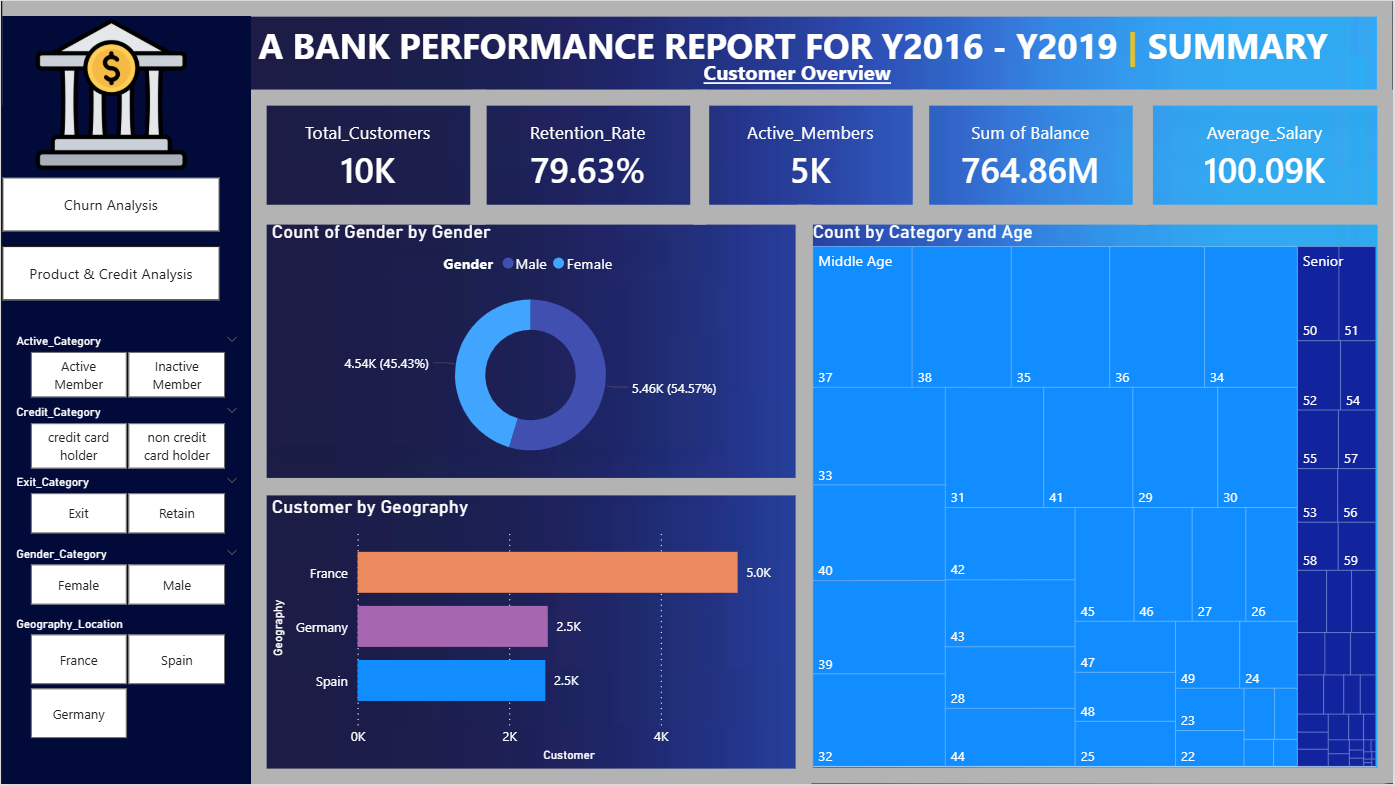

The dashboard page shown, as its layout file describes it:
{"tool":"powerbi","page":{"name":"Customer Overview","canvas":[1280,720],"ordinal":0},"visuals":[{"type":"textbox","box":[1.2,0,1278.8,96.2],"z":0},{"type":"shape","box":[1.2,13.8,228.8,706.2],"z":1000},{"type":"slicer","fields":{"Values":["Active_Customer.Active_Category"]},"box":[1.2,301.2,228.8,65],"z":2000},{"type":"slicer","fields":{"Values":["Credit_Card.Category"]},"box":[1.2,366.2,228.8,65],"z":3000},{"type":"slicer","fields":{"Values":["Exit_Customer.Exit_Category"]},"box":[1.2,431.2,228.8,65],"z":4000},{"type":"slicer","fields":{"Values":["Gender.Gender_Category"]},"box":[1.2,496.2,228.8,65],"z":5000},{"type":"slicer","fields":{"Values":["Geography.Geography_Location"]},"box":[1.2,561.2,228.8,123.8],"z":6000},{"type":"image","box":[22.5,13.8,156.2,143.8],"z":7000},{"type":"cardVisual","fields":{"Data":["Bank_Churn.Total_Customers"]},"box":[230,81.2,216.2,123.8],"z":8000},{"type":"cardVisual","fields":{"Data":["Bank_Churn.Retention_Rate"]},"box":[432.5,81.2,216.2,123.8],"z":9000},{"type":"cardVisual","fields":{"Data":["Bank_Churn.Active_Members"]},"box":[636.2,81.2,216.2,123.8],"z":10000},{"type":"cardVisual","fields":{"Data":["Sum(Bank_Churn.Balance)"]},"box":[838.8,81.2,216.2,123.8],"z":11000},{"type":"cardVisual","fields":{"Data":["Bank_Churn.Average_Salary"]},"box":[1045,81.2,235,123.8],"z":12000},{"type":"pageNavigator","box":[1.2,162.5,200,50],"z":13000},{"type":"pageNavigator","box":[1.2,225,200,50],"z":14000},{"type":"donutChart","fields":{"Category":["Gender.Gender_Category"],"Y":["CountNonNull(Bank_Churn.Gender_ID)"]},"box":[230,187.8,515.6,265.6],"z":15000},{"type":"barChart","fields":{"Category":["Geography.Geography_Location"],"Y":["CountNonNull(Bank_Churn.Customer_Id)"]},"box":[230,440,515,280],"z":16000},{"type":"treemap","fields":{"Details":["Bank_Churn.Age"],"Group":["Bank_Churn.Age_Category"],"Values":["CountNonNull(Bank_Churn.Age_Category)"]},"box":[732.2,187.8,547.8,532.2],"z":17000},{"type":"textbox","box":[533.3,47.8,397.8,41.1],"z":18000}]}

Visuals, with their boxes in screenshot pixels (x1, y1, x2, y2), scaled from the page's 1280x720 canvas onto the 1395x786 screenshot:
textbox: (1,0,1394,105)
shape: (1,15,251,785)
slicer - Active_Customer.Active_Category: (1,329,251,400)
slicer - Credit_Card.Category: (1,400,251,471)
slicer - Exit_Customer.Exit_Category: (1,471,251,542)
slicer - Gender.Gender_Category: (1,542,251,613)
slicer - Geography.Geography_Location: (1,613,251,748)
image: (25,15,195,172)
cardVisual - Bank_Churn.Total_Customers: (251,89,486,224)
cardVisual - Bank_Churn.Retention_Rate: (471,89,707,224)
cardVisual - Bank_Churn.Active_Members: (693,89,929,224)
cardVisual - Sum(Bank_Churn.Balance): (914,89,1150,224)
cardVisual - Bank_Churn.Average_Salary: (1139,89,1394,224)
pageNavigator: (1,177,219,232)
pageNavigator: (1,246,219,300)
donutChart - Gender.Gender_Category x CountNonNull(Bank_Churn.Gender_ID): (251,205,813,495)
barChart - Geography.Geography_Location x CountNonNull(Bank_Churn.Customer_Id): (251,480,812,785)
treemap - Bank_Churn.Age x Bank_Churn.Age_Category: (798,205,1394,785)
textbox: (581,52,1015,97)
